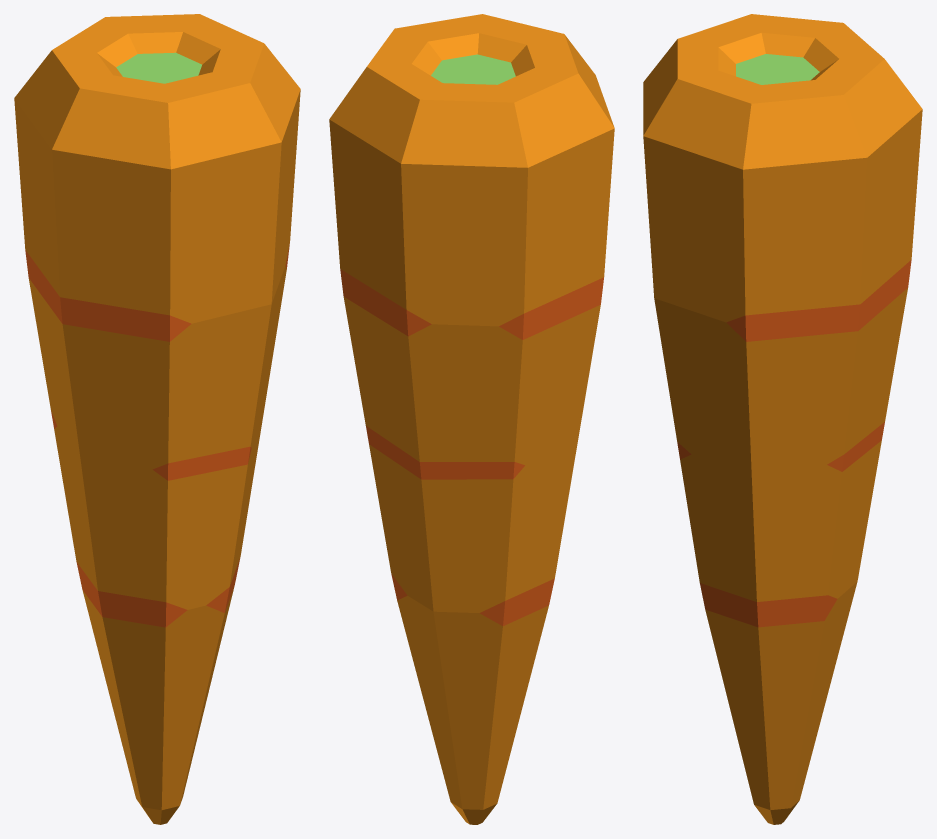
Rendered from Carrot.fbx.
The picture shows the model from 3 angles, left to right: view 1: azimuth 30°, elevation 25°; view 2: azimuth 150°, elevation 25°; view 3: azimuth 270°, elevation 25°; orthographic projection.
Parts seen in each view (by area): view 1: Carrot; view 2: Carrot; view 3: Carrot.
Part boxes in pixels (x1,y1,x2,y2): Carrot: (14, 14, 300, 824); Carrot: (329, 14, 614, 824); Carrot: (643, 14, 922, 824).
Bounding box in the file's own units: 9.81 × 28.79 × 9.56.
